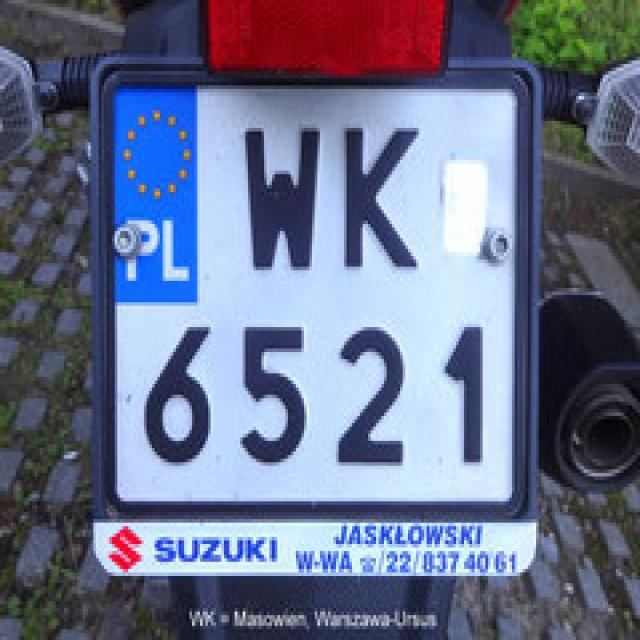pl_license_plate: (112, 82, 515, 501)
